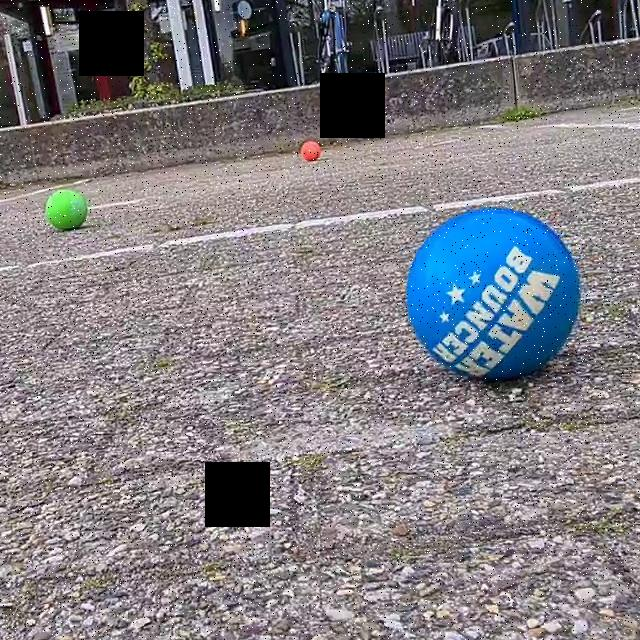ball: (42, 185, 88, 235), (298, 138, 320, 163)
